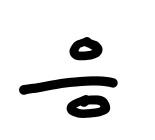div: (19, 37, 117, 118)
